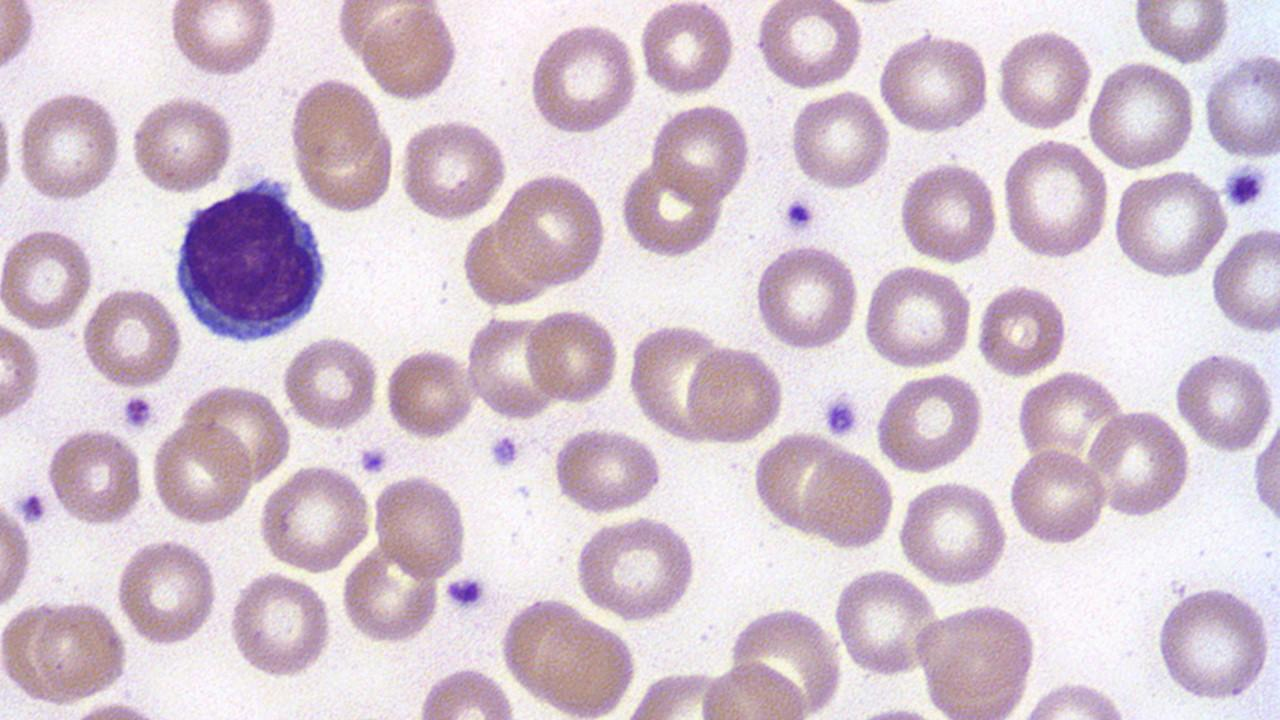Platelets: (1221, 161, 1269, 210), (820, 388, 862, 439), (442, 573, 487, 611), (783, 195, 819, 234), (121, 392, 156, 430), (488, 431, 520, 471), (20, 488, 50, 526), (357, 444, 390, 476)
RBC: (496, 594, 640, 716), (1151, 582, 1277, 704), (912, 600, 1041, 716), (572, 513, 700, 623), (1003, 137, 1111, 263), (1111, 167, 1229, 282), (721, 605, 844, 714), (526, 20, 640, 137), (255, 462, 373, 574), (495, 170, 608, 286), (14, 88, 125, 204), (1084, 59, 1198, 170), (896, 478, 1010, 588), (860, 262, 976, 370), (223, 569, 335, 680), (751, 241, 861, 352), (396, 117, 510, 224), (876, 30, 992, 135), (830, 566, 938, 678), (873, 369, 986, 476), (113, 536, 220, 648), (1085, 408, 1193, 518), (180, 380, 292, 485), (148, 417, 254, 527), (126, 93, 238, 195), (895, 160, 1001, 265), (1170, 350, 1278, 453), (648, 100, 754, 204), (369, 472, 470, 581), (618, 156, 724, 259), (81, 284, 184, 390), (992, 27, 1094, 133), (753, 430, 853, 538), (788, 89, 892, 192), (29, 598, 130, 704), (684, 343, 786, 447), (358, 4, 464, 104), (44, 426, 147, 527), (0, 224, 96, 332), (552, 424, 664, 516), (464, 312, 559, 420), (523, 304, 623, 406), (798, 448, 896, 552), (1008, 446, 1109, 546), (1013, 368, 1119, 463), (752, 2, 864, 91), (341, 546, 441, 645), (280, 334, 381, 432), (637, 0, 735, 99), (973, 282, 1070, 380), (381, 344, 477, 443), (287, 75, 383, 170), (1200, 49, 1280, 162), (438, 325, 524, 428), (167, 2, 281, 78), (1209, 222, 1279, 337), (696, 654, 810, 718), (1131, 2, 1233, 66), (413, 664, 517, 718), (0, 316, 44, 423), (0, 491, 34, 613), (1251, 418, 1279, 527), (0, 3, 39, 79)
WBC: (167, 176, 335, 346)
